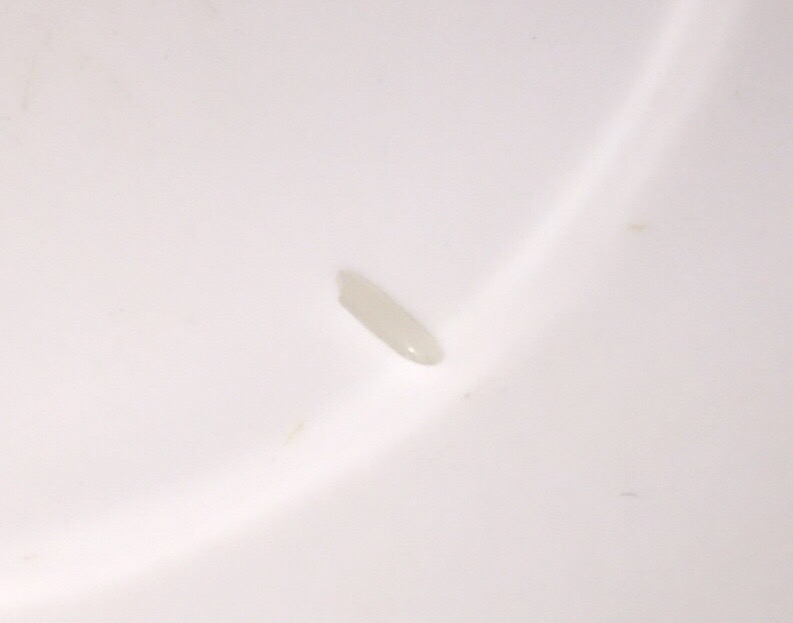Gao Ngoc Troi: (327, 258, 454, 368)
